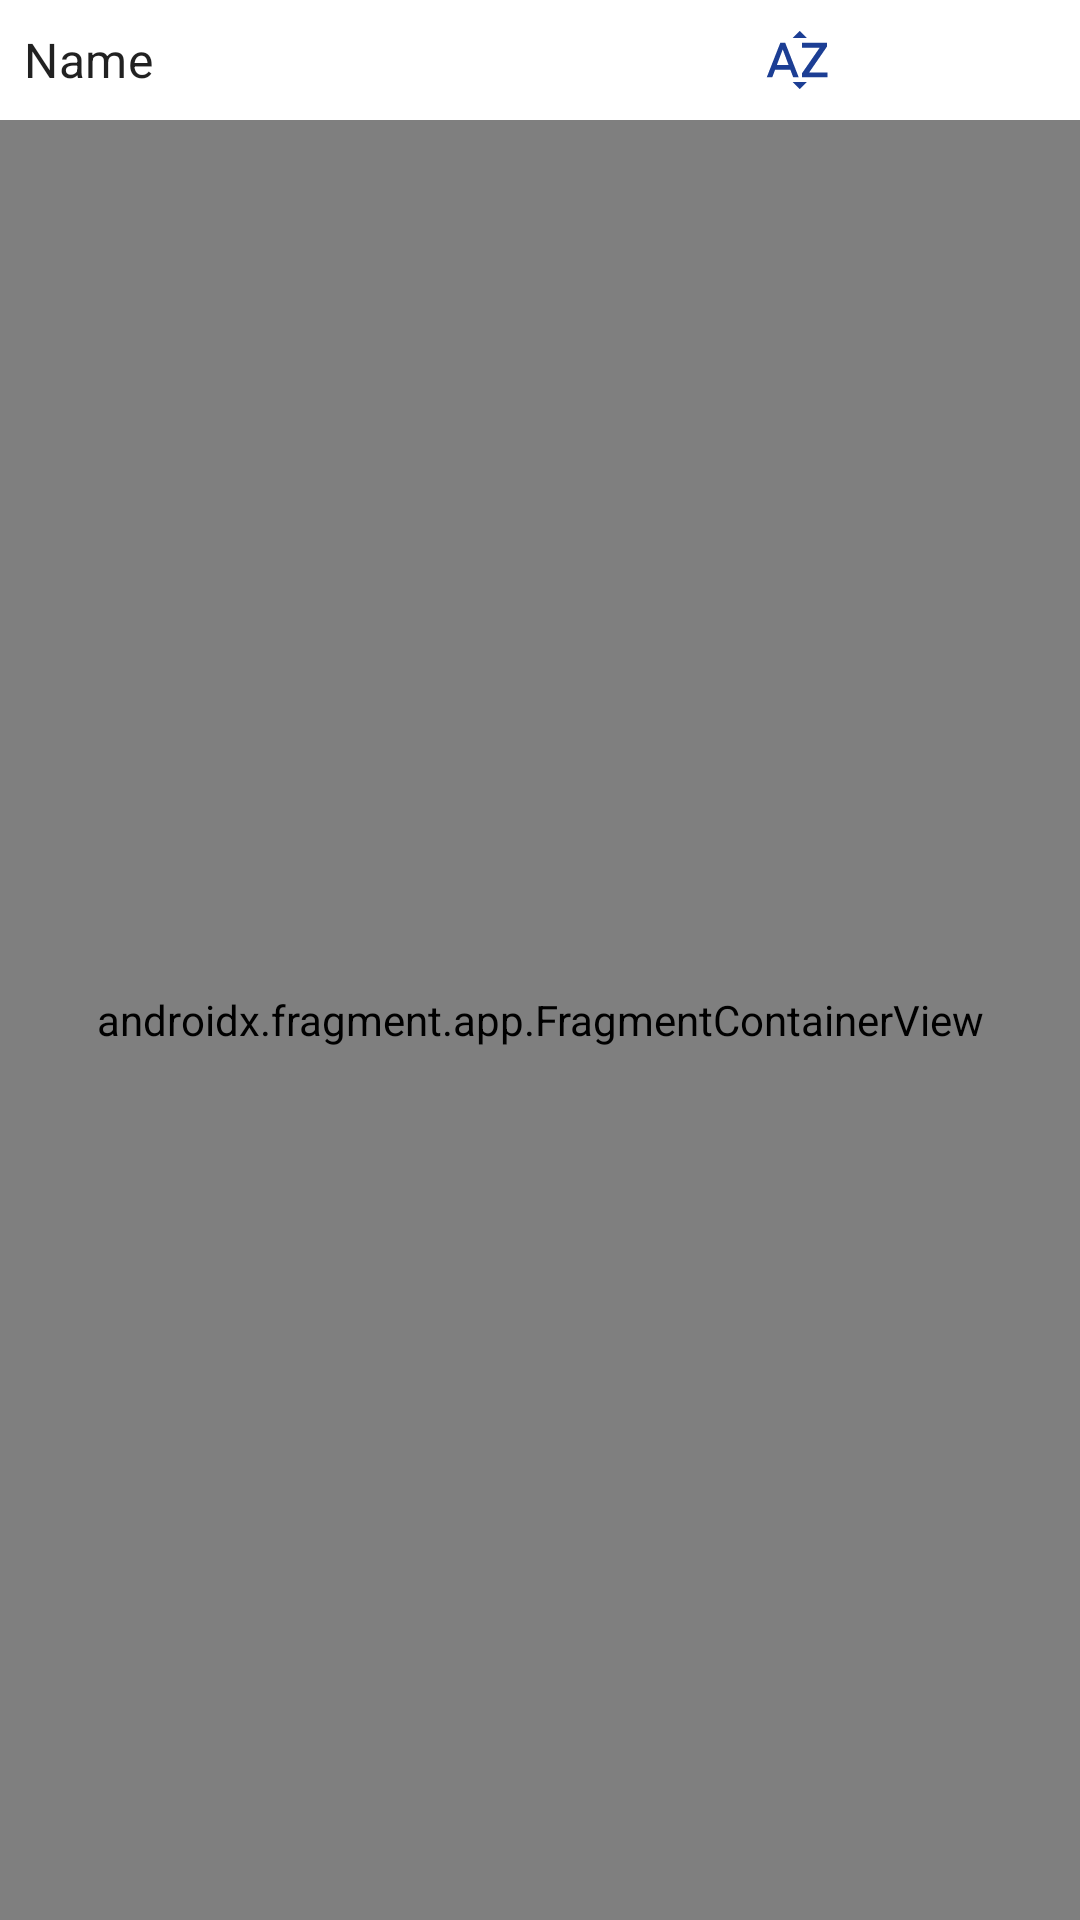

Named icons in this screenshot (1080×1920) and their bounding boxes, (x1, y1, x2, y2):
sort by: (767, 31, 828, 89)
